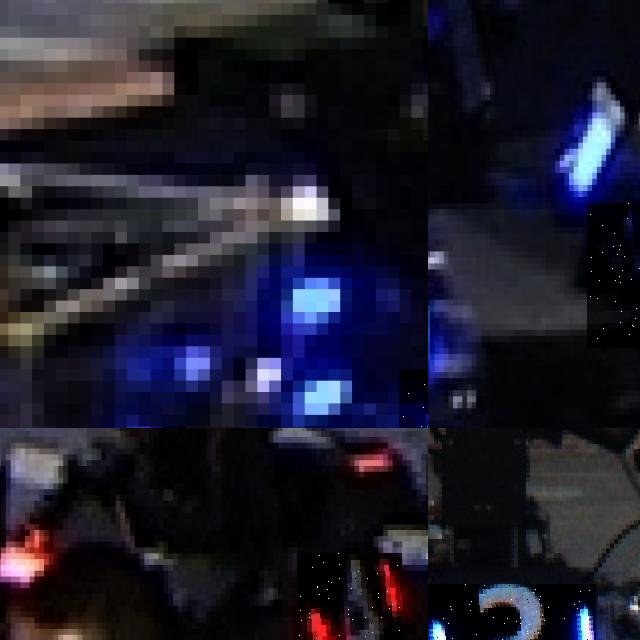B3: (428, 584, 596, 640)
B5: (587, 203, 640, 348)
R4: (297, 553, 402, 640)
